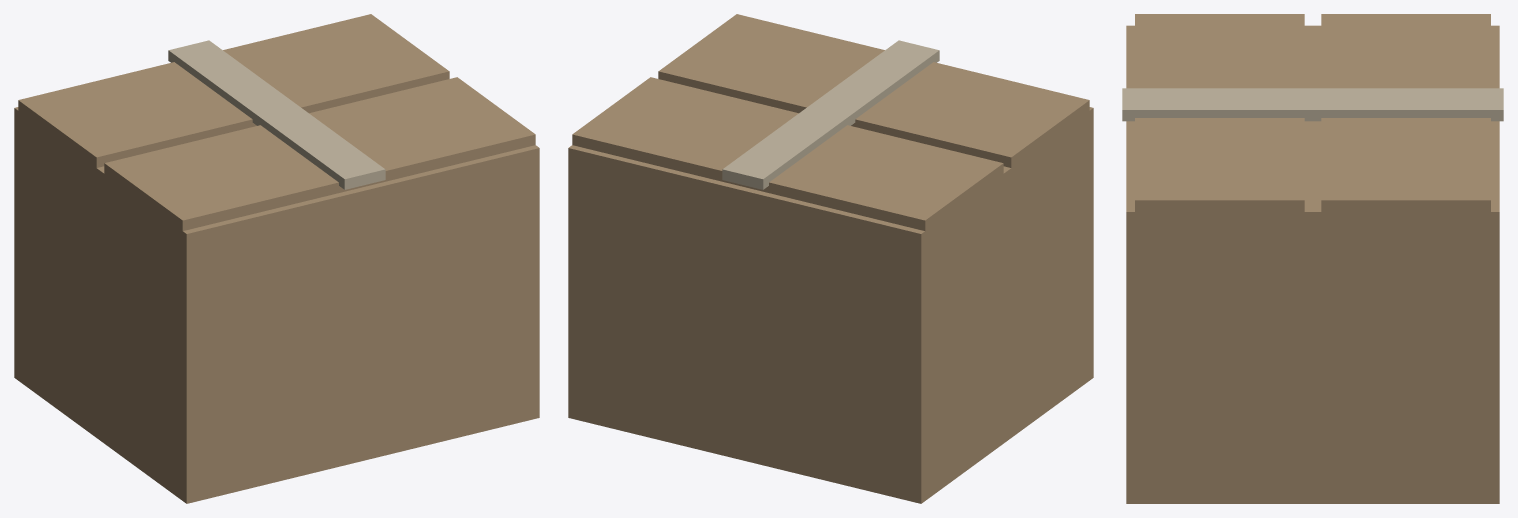
The model's file is caja.glb.
3 views of the same model, side by side, from view 1: azimuth 30°, elevation 25°; view 2: azimuth 150°, elevation 25°; view 3: azimuth 270°, elevation 25° (orthographic). The views are drawn at different scales.
Parts seen in each view (by area): view 1: caja; view 2: caja; view 3: caja.
Part boxes in pixels (box(x1,y1,x2,y2)): caja: box(14, 14, 539, 503); caja: box(568, 14, 1093, 503); caja: box(1122, 14, 1503, 503).
Size of the model in its own units: 0.52 by 0.4055 by 0.45.
